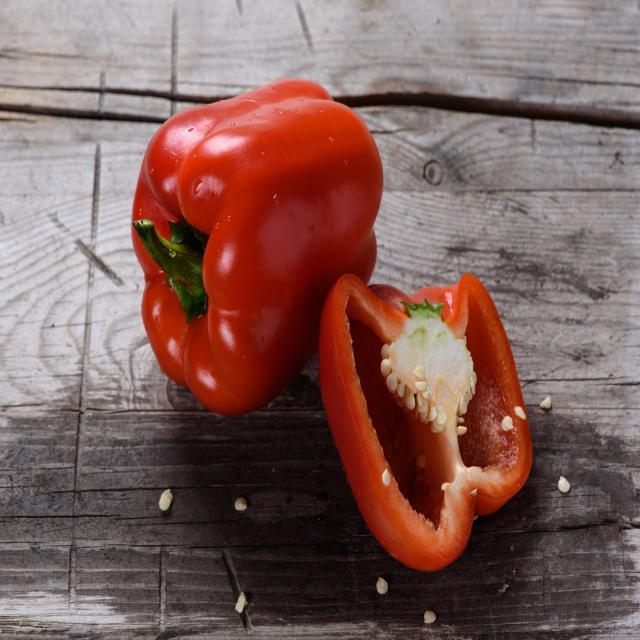bell_pepper: (131, 86, 385, 406), (556, 405, 557, 406)
